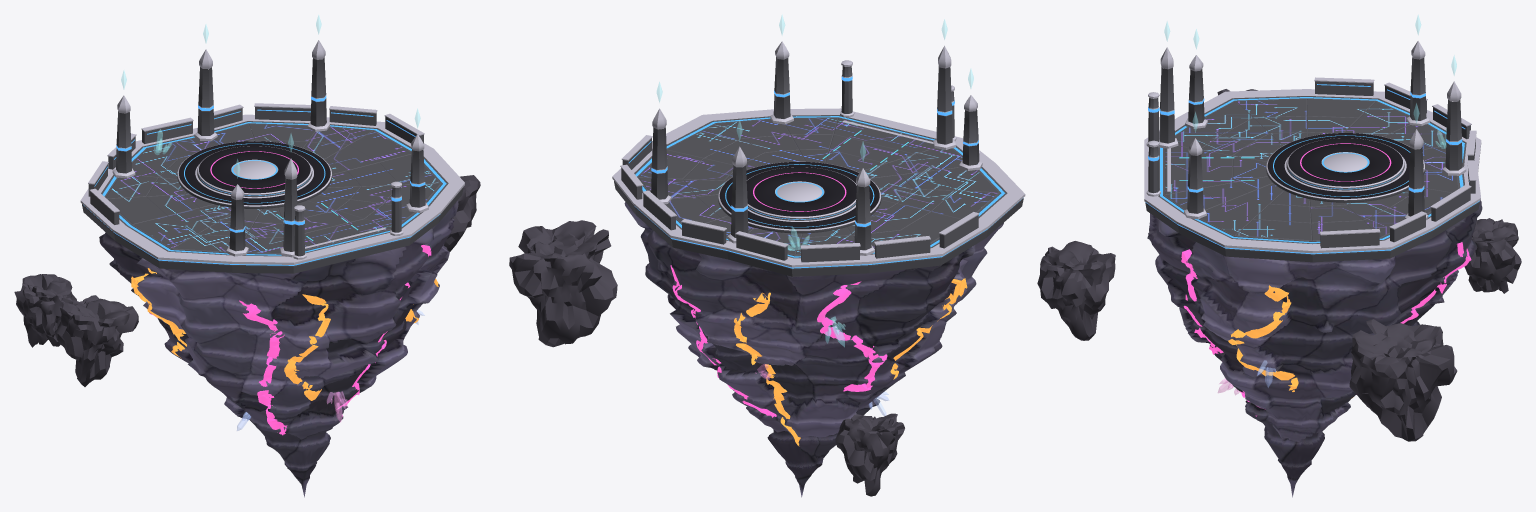
File: Island_01_quest.glb
3 renders of one model, left to right at view 1: azimuth 30°, elevation 25°; view 2: azimuth 150°, elevation 25°; view 3: azimuth 270°, elevation 25°, orthographic. The views are drawn at different scales.
Parts seen in each view (by area): view 1: Island_01_Rock, Island_01_Deck, Island_01_Architecture, Island_01, Island_01_Plaza, Island_01_Veins; view 2: Island_01_Rock, Island_01_Deck, Island_01, Island_01_Architecture, Island_01_Plaza, Island_01_Veins; view 3: Island_01_Rock, Island_01_Deck, Island_01_Architecture, Island_01, Island_01_Plaza, Island_01_Veins.
Part boxes in pixels (box(x1,y1,x2,y2)): Island_01_Rock: box(99, 200, 458, 497); Island_01_Deck: box(80, 114, 464, 273); Island_01_Architecture: box(88, 15, 428, 259); Island_01: box(14, 129, 480, 430); Island_01_Plaza: box(177, 141, 332, 208); Island_01_Veins: box(131, 245, 438, 435); Island_01_Rock: box(624, 149, 1003, 497); Island_01_Deck: box(612, 108, 1025, 276); Island_01: box(509, 220, 1115, 496); Island_01_Architecture: box(620, 15, 982, 262); Island_01_Plaza: box(718, 161, 881, 233); Island_01_Veins: box(670, 265, 967, 446); Island_01_Rock: box(1147, 105, 1482, 497); Island_01_Deck: box(1144, 89, 1481, 262); Island_01_Architecture: box(1146, 15, 1476, 248); Island_01: box(1217, 89, 1521, 441); Island_01_Plaza: box(1266, 133, 1425, 202); Island_01_Veins: box(1181, 242, 1471, 416).
Bounding box in the file's own units: 33.82 × 28.34 × 22.02.
13 materials, 1 textured.
